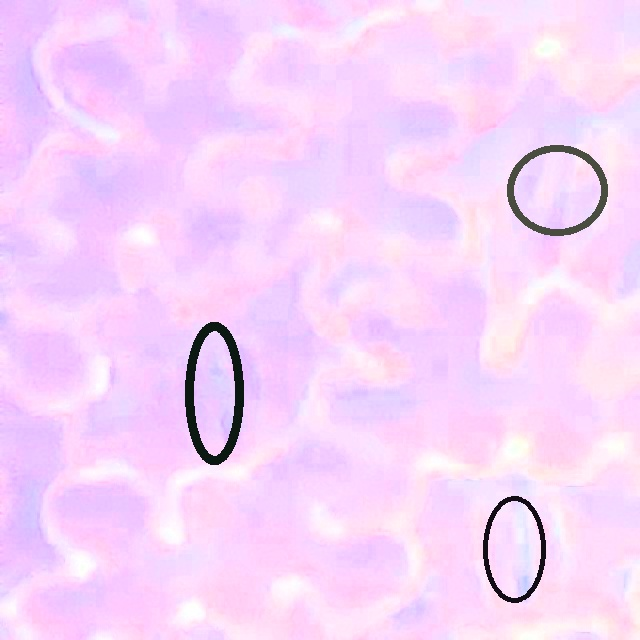open: (506, 143, 608, 236), (185, 321, 243, 465), (482, 496, 546, 602)
